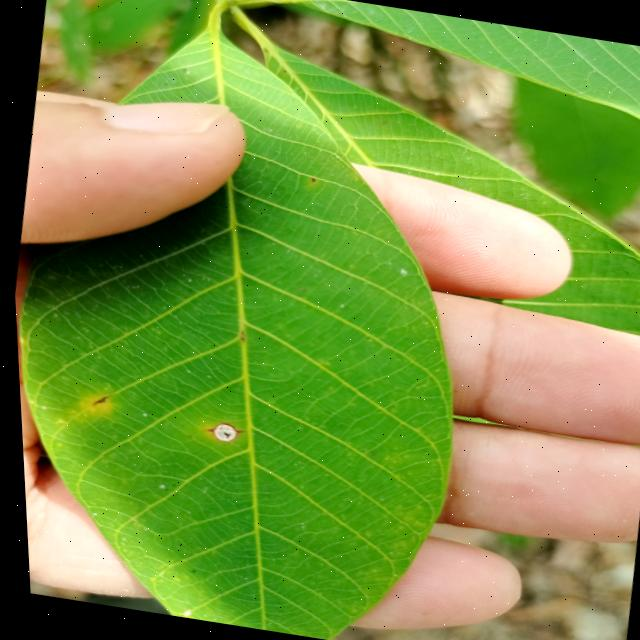Colletotrichum: (206, 421, 236, 445), (309, 178, 314, 183)
